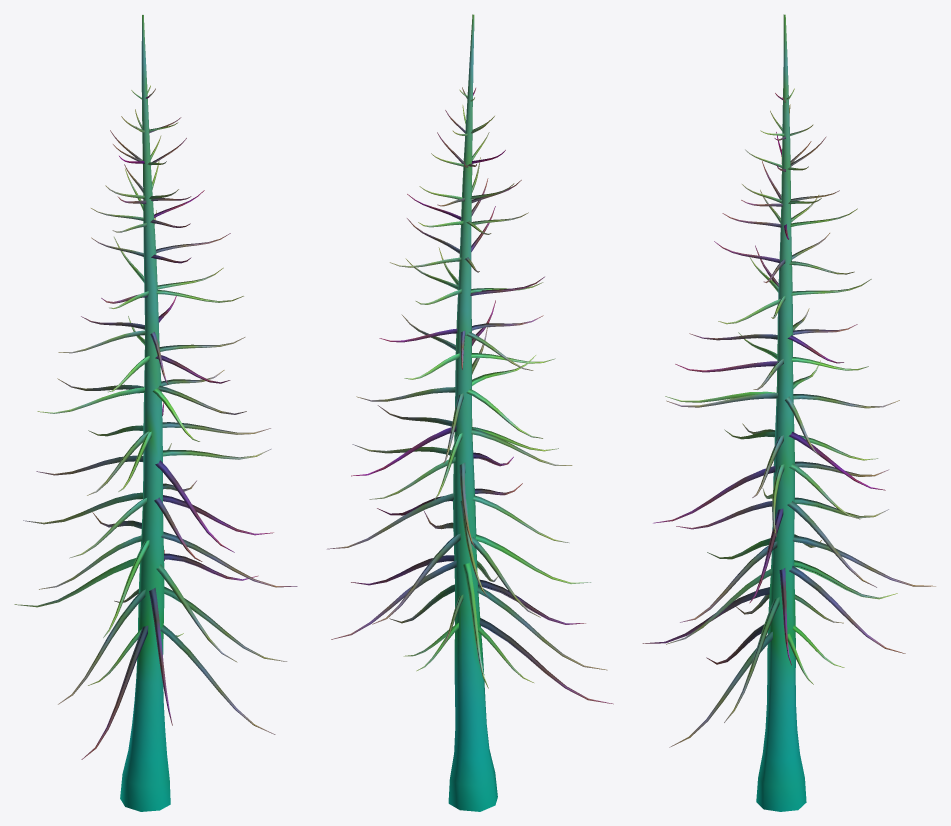
Rendered from spruce-grove-a.glb.
3 views of the same model, side by side, from view 1: azimuth 30°, elevation 25°; view 2: azimuth 150°, elevation 25°; view 3: azimuth 270°, elevation 25° (orthographic).
Parts seen in each view (by area): view 1: bark; view 2: bark; view 3: bark.
Boxes of the visible parts, x1,y1,x2,y2 form: bark: (14, 15, 297, 811); bark: (326, 14, 613, 811); bark: (642, 14, 935, 811).
Bounding box in the file's own units: 5.45 × 17.45 × 5.91.
